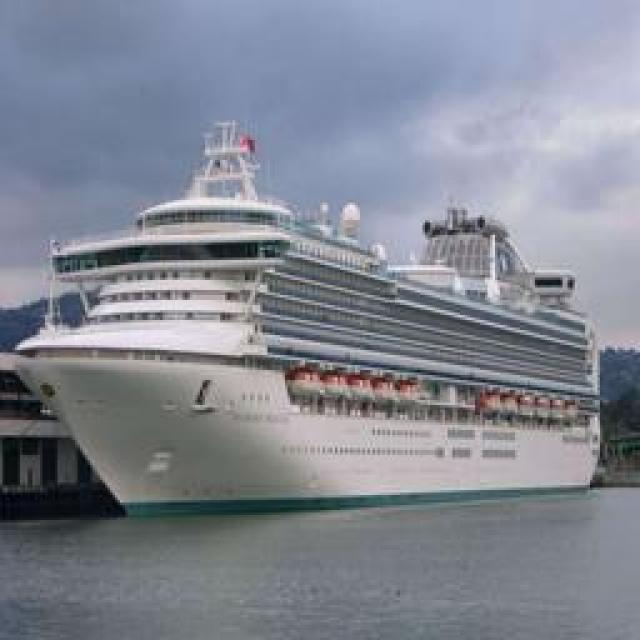CIV_Ship: (9, 118, 602, 512)
